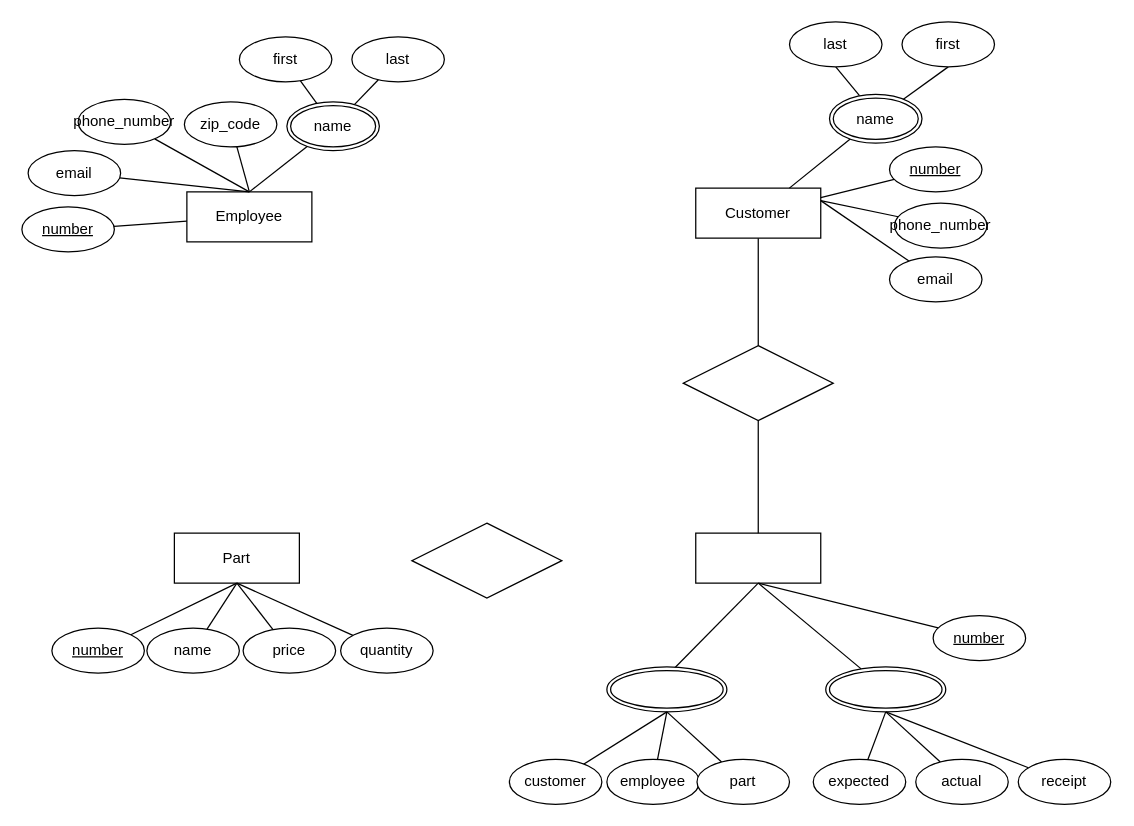
Image size: 1134x826. Some labels were removed from this diagram. Each missing label, with the box of its shape:
date: (824, 666, 946, 712)
Order: (694, 532, 821, 583)
PlacedCustomer: (606, 666, 727, 712)
Relationship: (411, 522, 562, 598)
구매를 한다.: (682, 344, 833, 421)
